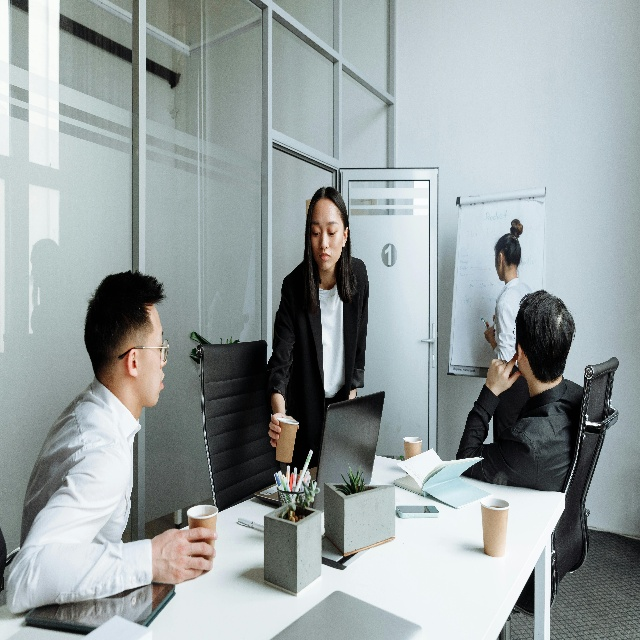Gafas: (118, 338, 169, 361), (512, 325, 520, 346)
Sin_guantes: (151, 527, 220, 586), (485, 349, 523, 394), (268, 411, 300, 450), (484, 325, 496, 343)
